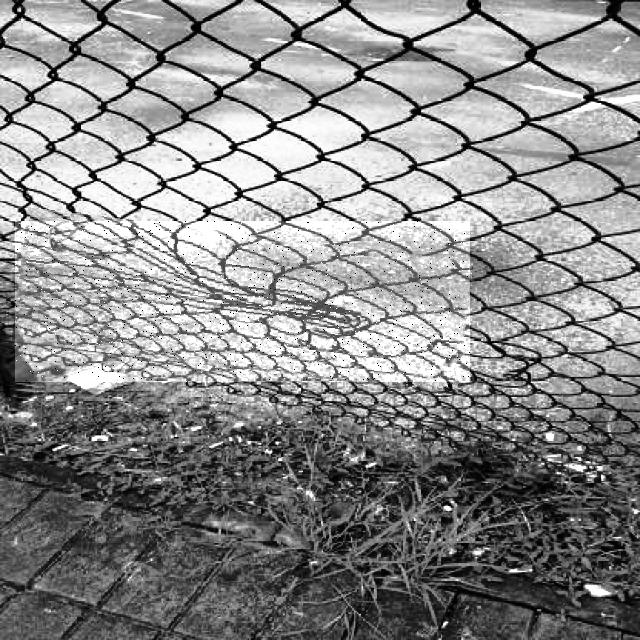anomaly-fence: (15, 221, 470, 382)
